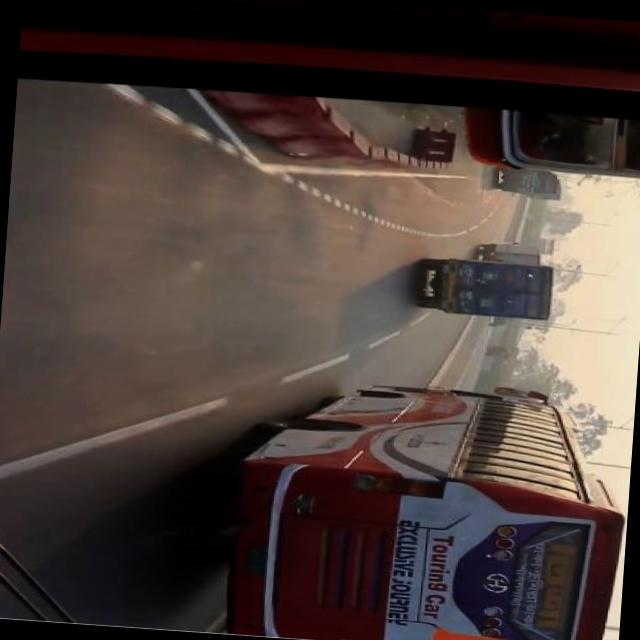bus: (217, 363, 634, 640), (500, 168, 561, 195)
truck: (419, 254, 554, 318), (478, 238, 542, 262)
